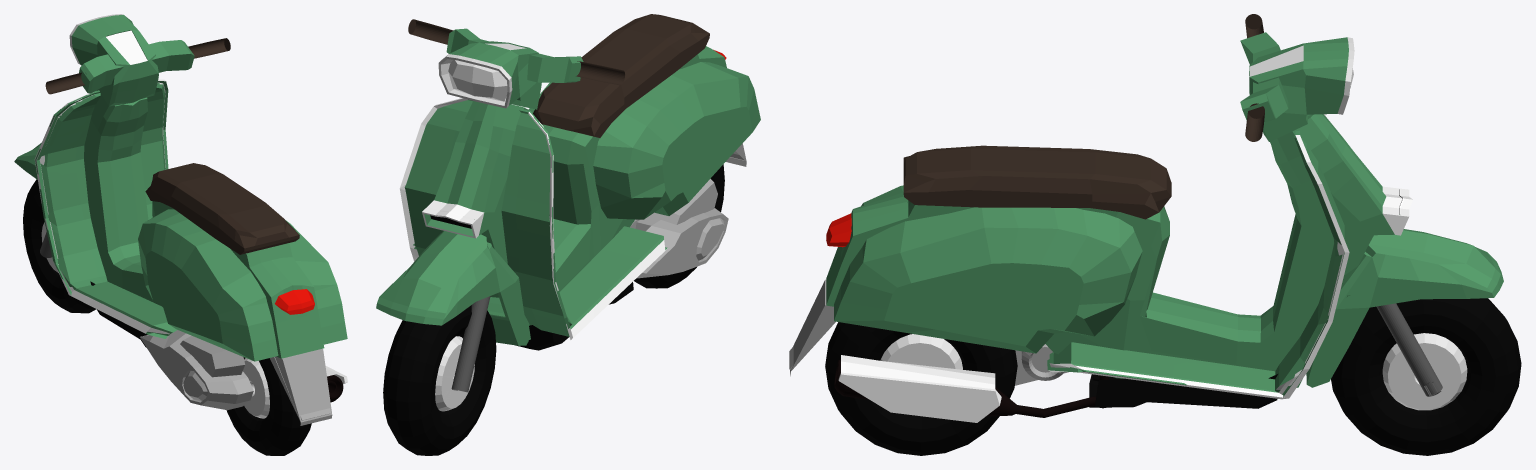
The model's file is low_poly_scooter.glb.
3 renders of one model, left to right at view 1: azimuth 30°, elevation 25°; view 2: azimuth 150°, elevation 25°; view 3: azimuth 270°, elevation 25°, orthographic. The views are drawn at different scales.
Parts seen in each view (by area): view 1: Plane.002_22, Plane.001_21, Plane.005_25, Seat_16, Plane.003_13, Plane.004_23, Torus_26, Handlebar_20, Cube.001_18, Torus.001_11, Torus.003_27, Cube_17 (+2 smaller); view 2: Plane.005_25, Plane.002_22, Plane.001_21, Torus.001_11, Seat_16, Plane.006_24, Plane.003_13, Plane.004_23, Handlebar_20, Cube.002_3, Cylinder_19, Torus.002_12 (+2 smaller); view 3: Plane.002_22, Plane.001_21, Torus.001_11, Seat_16, Plane.006_24, Plane.005_25, Torus_26, Plane.008_10, Plane.004_23, Torus.002_12, Plane.007_14, Handlebar_20 (+5 smaller).
Boxes of the visible parts, x1=… form: Plane.002_22: x1=138, y1=209, x2=347, y2=361; Plane.001_21: x1=84, y1=89, x2=324, y2=358; Plane.005_25: x1=34, y1=79, x2=177, y2=338; Seat_16: x1=145, y1=163, x2=299, y2=254; Plane.003_13: x1=140, y1=330, x2=253, y2=410; Plane.004_23: x1=69, y1=14, x2=158, y2=106; Torus_26: x1=226, y1=357, x2=311, y2=455; Handlebar_20: x1=45, y1=38, x2=230, y2=94; Cube.001_18: x1=269, y1=348, x2=332, y2=425; Torus.001_11: x1=23, y1=179, x2=95, y2=313; Torus.003_27: x1=243, y1=358, x2=269, y2=418; Cube_17: x1=275, y1=289, x2=314, y2=314; Plane.005_25: x1=399, y1=98, x2=667, y2=339; Plane.002_22: x1=528, y1=62, x2=760, y2=219; Plane.001_21: x1=422, y1=46, x2=726, y2=339; Torus.001_11: x1=383, y1=305, x2=496, y2=455; Seat_16: x1=533, y1=14, x2=709, y2=137; Plane.006_24: x1=376, y1=231, x2=528, y2=345; Plane.003_13: x1=630, y1=179, x2=728, y2=278; Plane.004_23: x1=438, y1=41, x2=541, y2=109; Handlebar_20: x1=408, y1=19, x2=624, y2=85; Cube.002_3: x1=448, y1=60, x2=507, y2=101; Cylinder_19: x1=451, y1=296, x2=490, y2=392; Torus.002_12: x1=435, y1=336, x2=474, y2=411; Plane.002_22: x1=834, y1=185, x2=1142, y2=353; Plane.001_21: x1=826, y1=114, x2=1412, y2=387; Torus.001_11: x1=1331, y1=298, x2=1521, y2=455; Seat_16: x1=903, y1=145, x2=1171, y2=219; Plane.006_24: x1=1306, y1=229, x2=1503, y2=387; Plane.005_25: x1=1047, y1=114, x2=1349, y2=399; Torus_26: x1=825, y1=322, x2=1017, y2=455; Plane.008_10: x1=838, y1=355, x2=1001, y2=422; Plane.004_23: x1=1249, y1=37, x2=1354, y2=141; Torus.002_12: x1=1382, y1=333, x2=1467, y2=410; Plane.007_14: x1=1089, y1=374, x2=1277, y2=408; Handlebar_20: x1=1240, y1=14, x2=1288, y2=141.
Bounding box in the file's own units: 0.9008 × 1.51 × 2.48.
